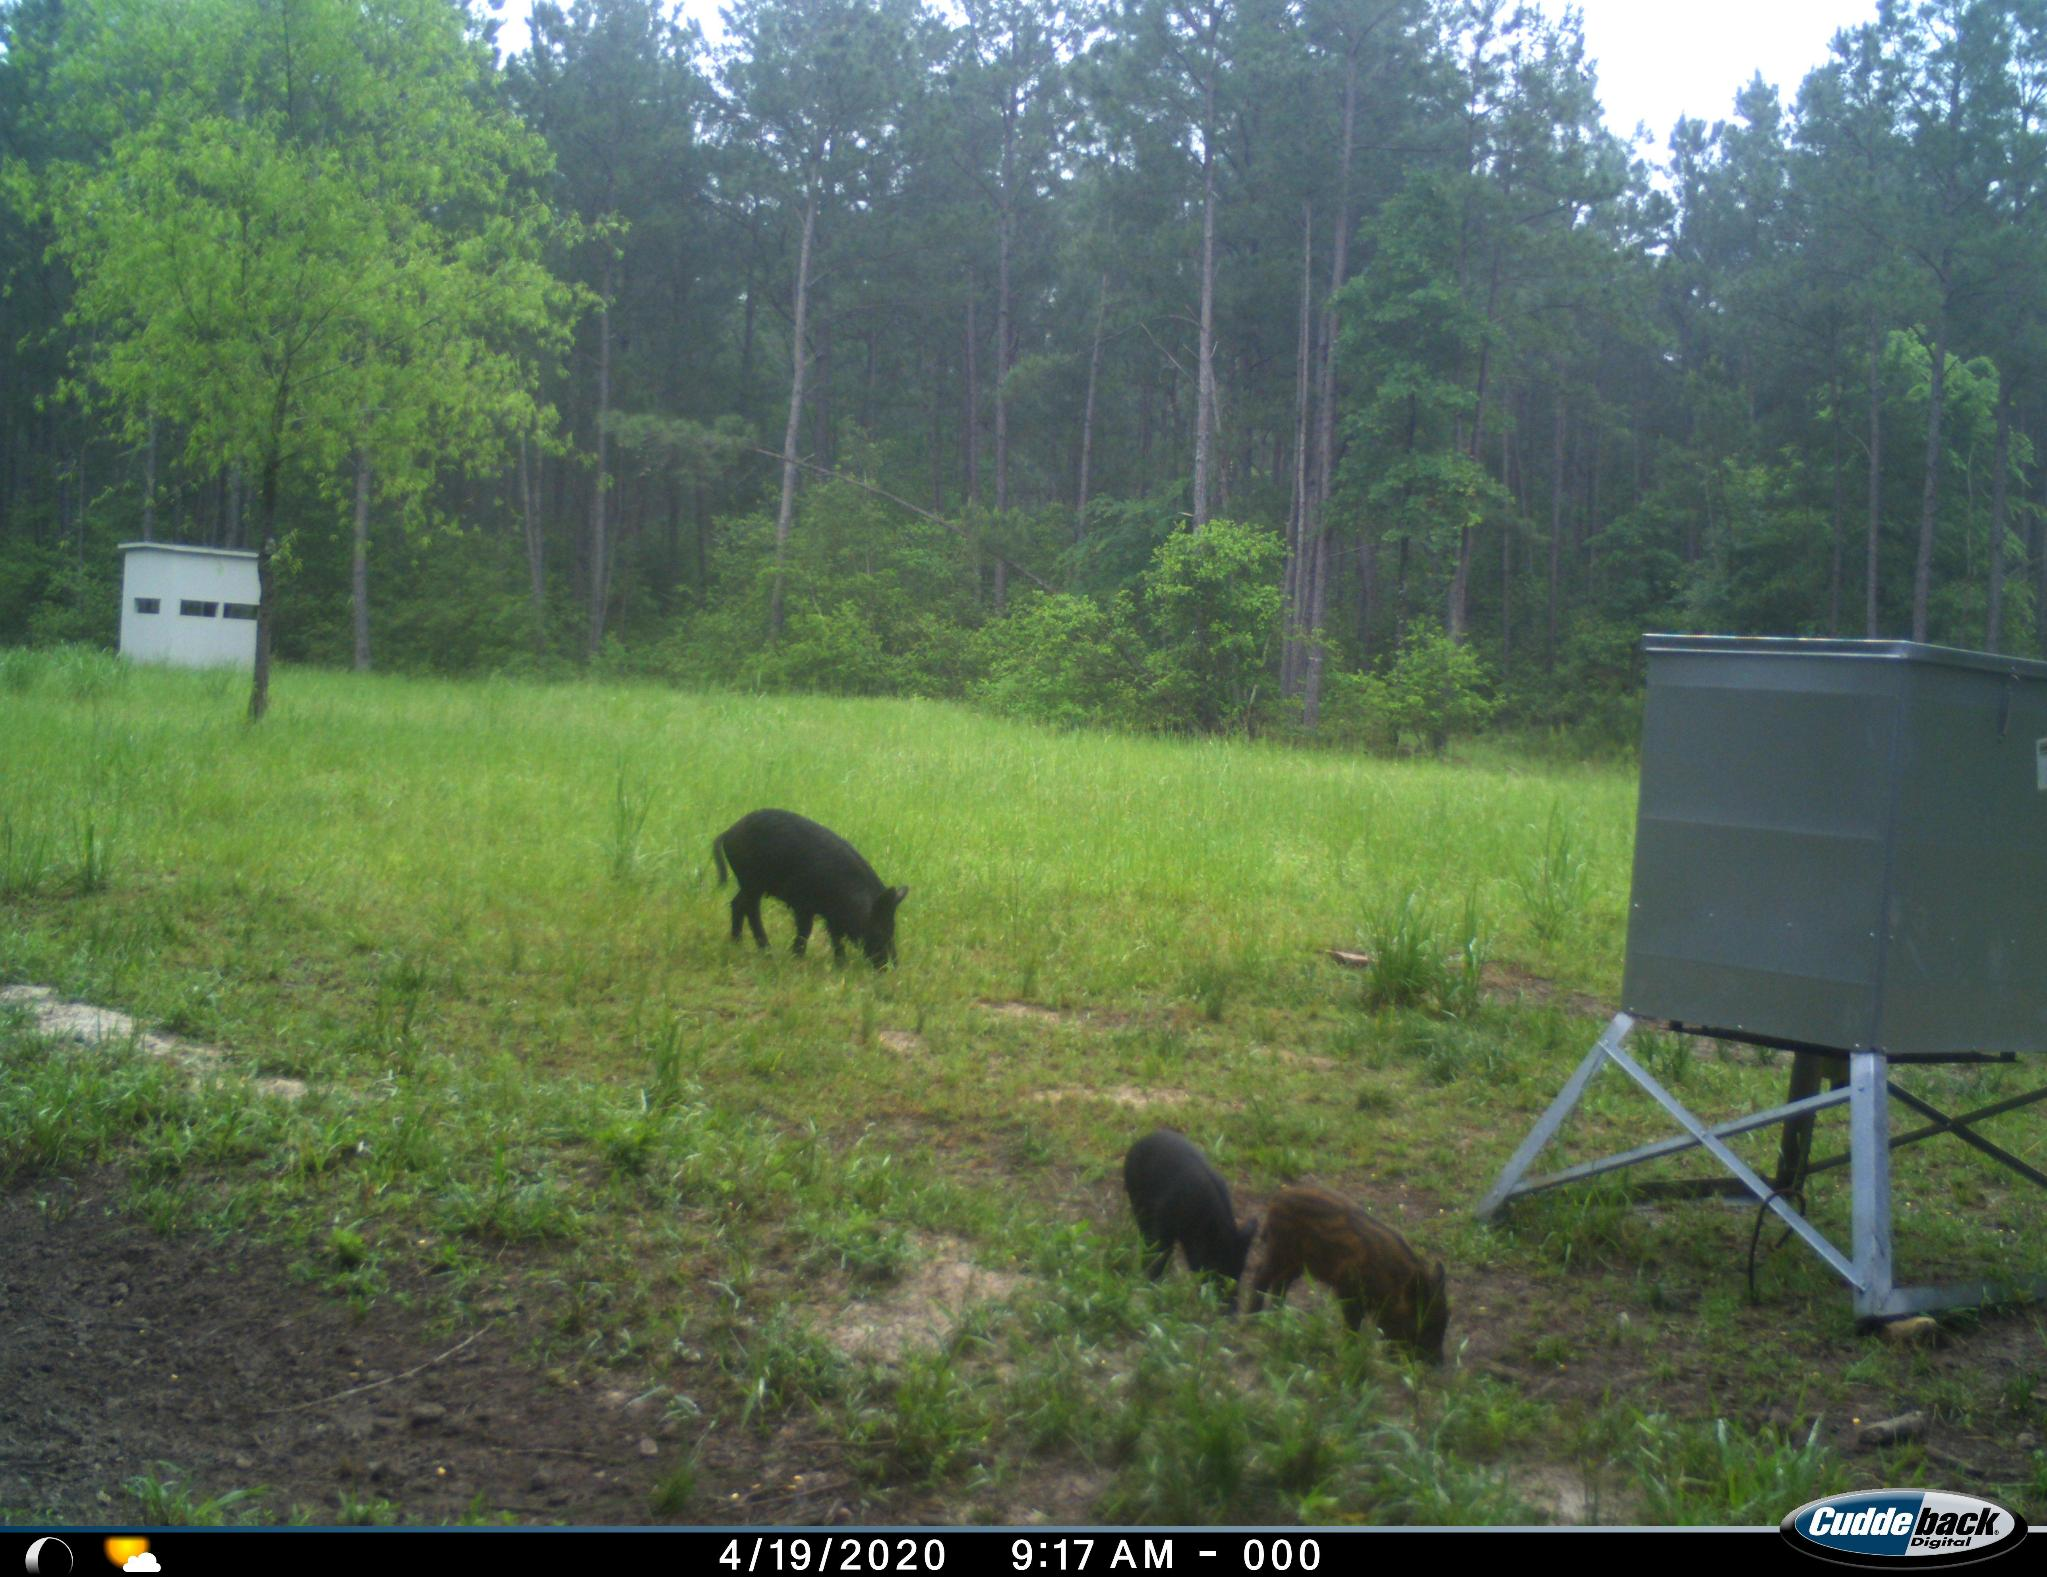Hog: (699, 802, 939, 1012), (1254, 1174, 1462, 1385), (1113, 1135, 1267, 1302)
